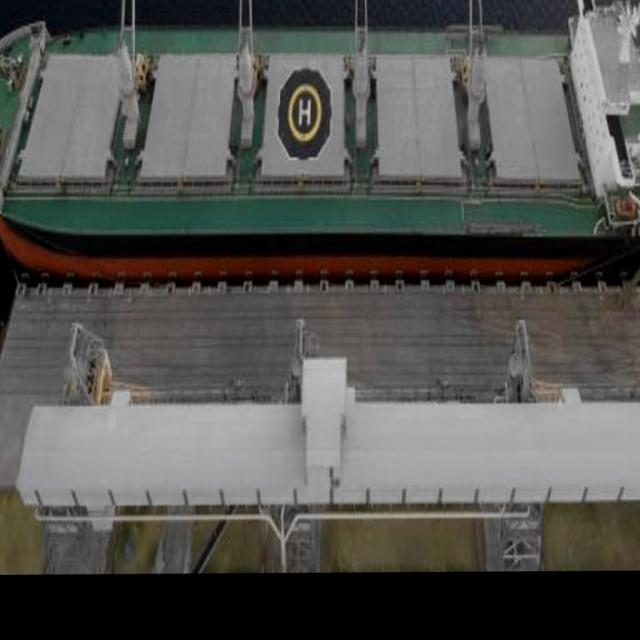helipad: (284, 80, 324, 144)
